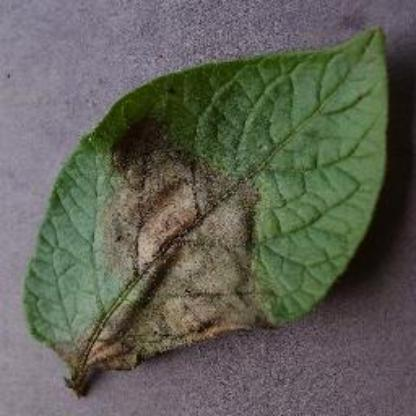Late-Blight: (26, 30, 392, 388)
